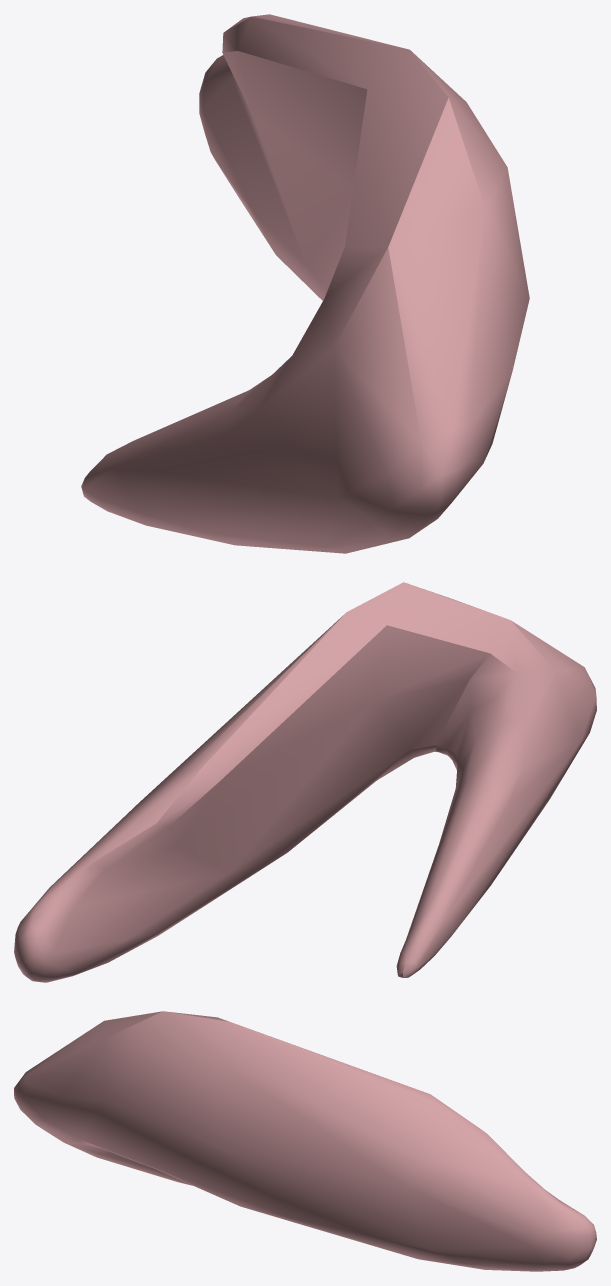
File: fma59506_fj6614.glb
The picture shows the model from 3 angles, top to bottom: view 1: azimuth 30°, elevation 25°; view 2: azimuth 150°, elevation 25°; view 3: azimuth 270°, elevation 25°; orthographic projection. The views are drawn at different scales.
Visible parts, largest first — view 1: FMA59506_FJ6614; view 2: FMA59506_FJ6614; view 3: FMA59506_FJ6614.
Boxes of the visible parts, x1,y1,x2,y2 form: FMA59506_FJ6614: (81, 14, 529, 553); FMA59506_FJ6614: (14, 582, 596, 982); FMA59506_FJ6614: (14, 1011, 596, 1271).
Size of the model in its own units: 0.0148 by 0.0156 by 0.0337.
